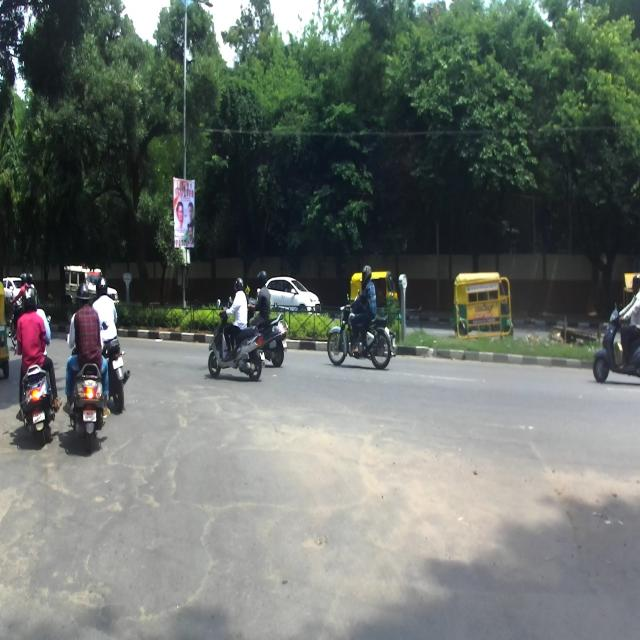autorickshaw: (348, 270, 402, 331)
motorcycle: (324, 290, 394, 372), (102, 325, 130, 412)
scooter: (61, 310, 110, 454), (13, 315, 62, 446), (207, 294, 266, 382), (592, 300, 639, 383), (246, 296, 288, 367)
